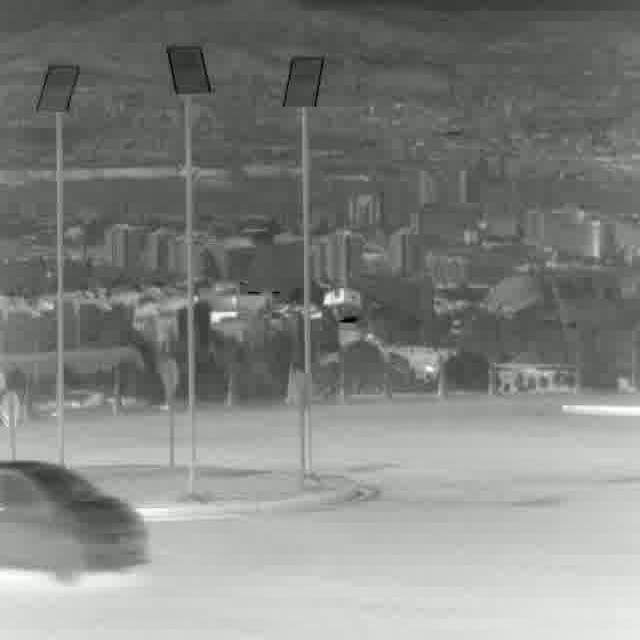Car: (0, 462, 149, 585)
